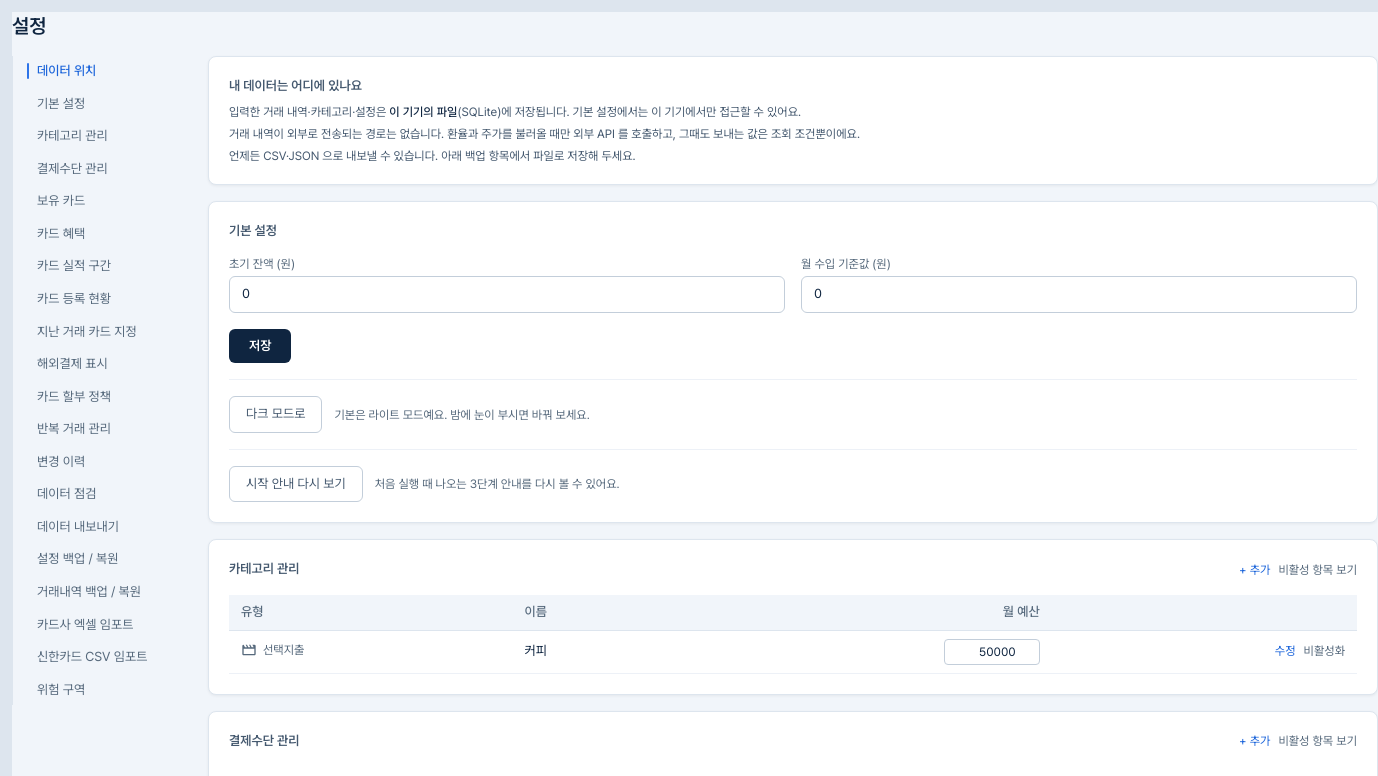
목록과 활성 필터 › 다시 누르면 활성만으로 돌아온다
This screenshot has width=1378, height=776.
Click the 1st button "비활성 항목 보기" at x=1318, y=570, box x1=1278 y1=562 x2=1357 y2=578
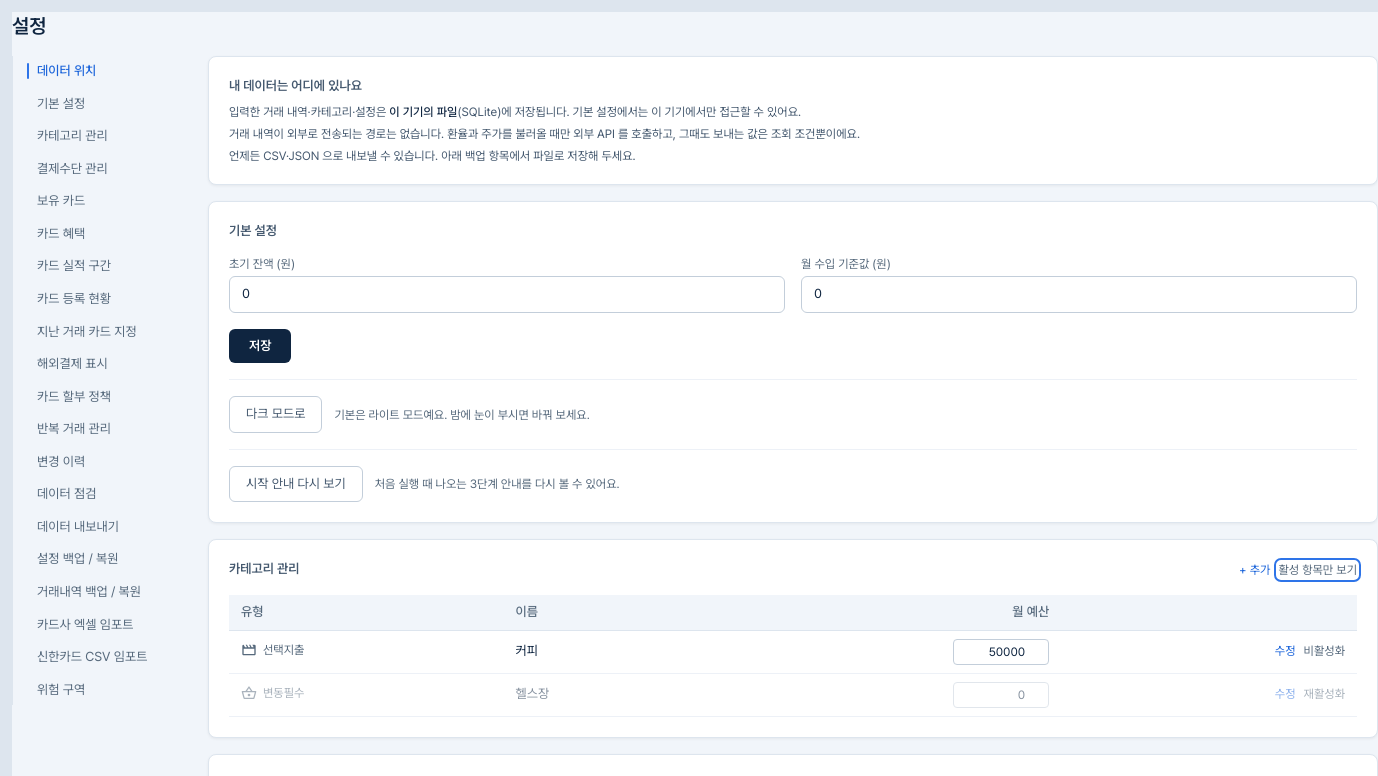
Click the button "활성 항목만 보기" at x=1318, y=570, box x1=1278 y1=562 x2=1357 y2=578
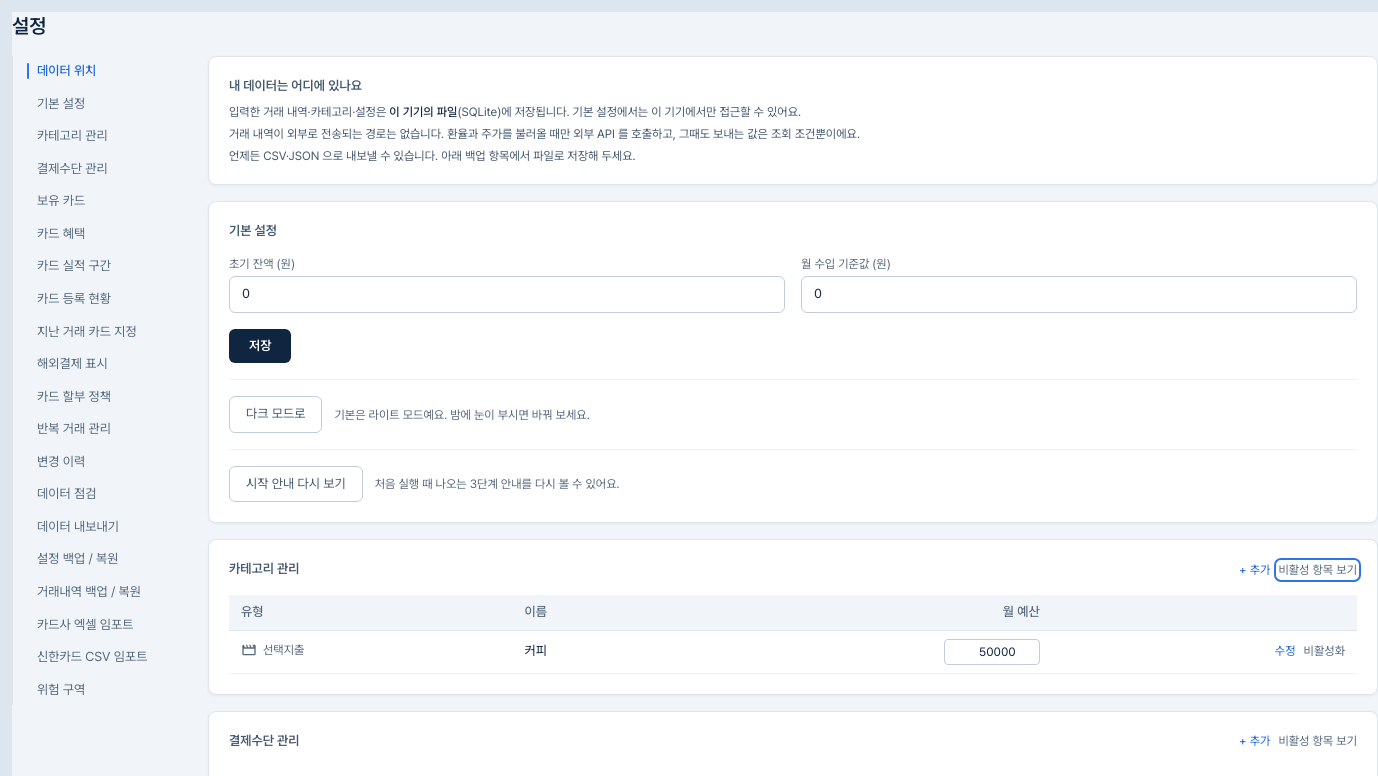
Expected: the text "헬스장" is gone
